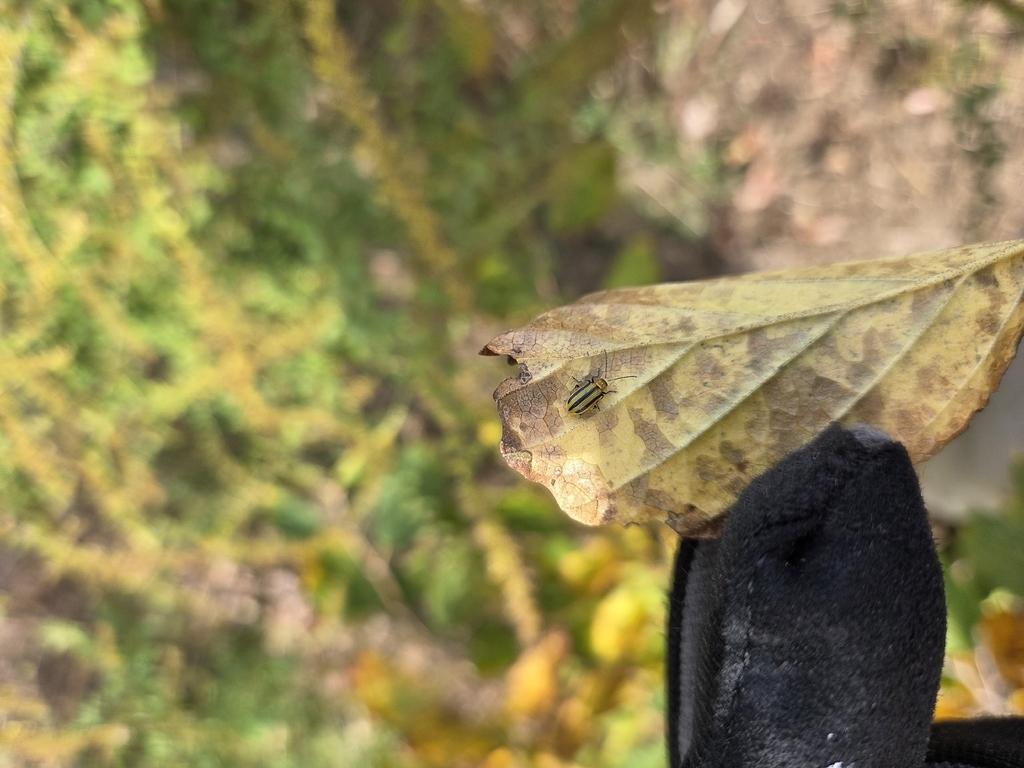potato_beetle: (548, 338, 651, 439)
